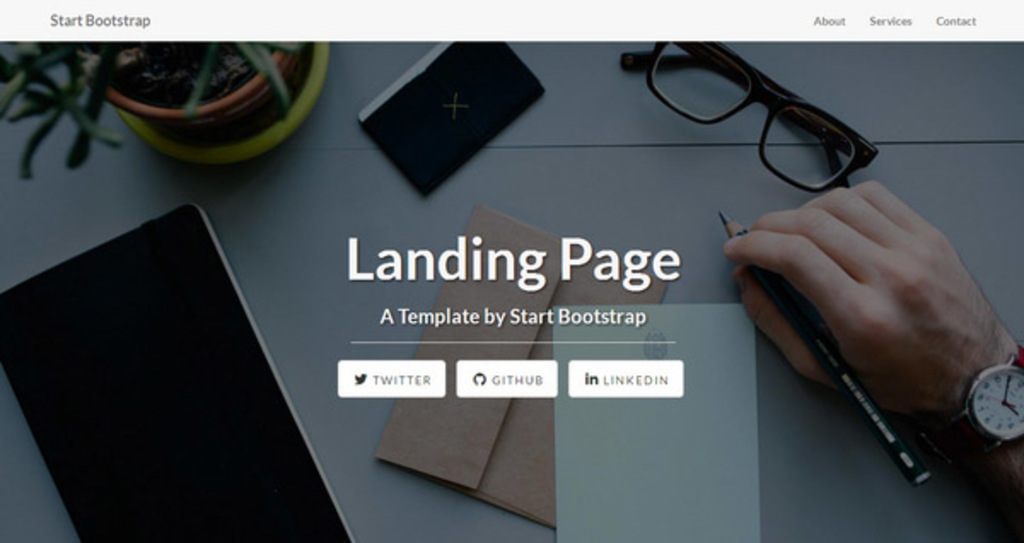Mobile-phone: (0, 203, 357, 543)
